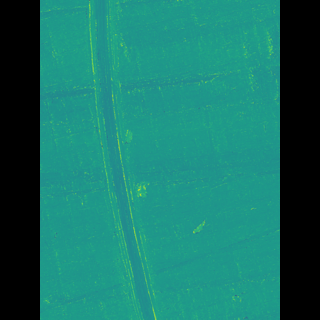Loch: (103, 0, 165, 320)
